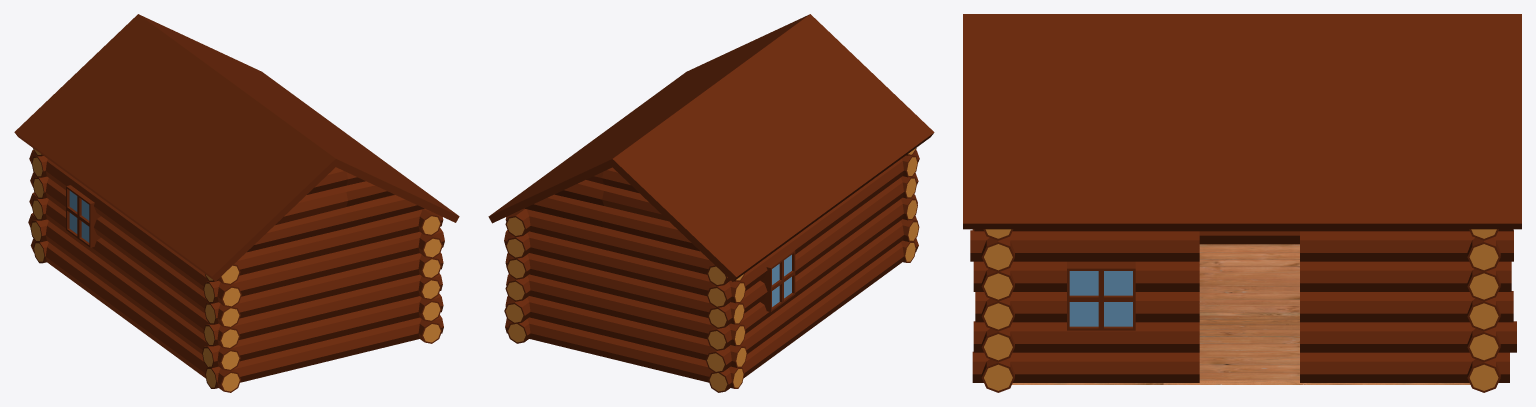
Rendered from cabin_1.fbx.
3 views of the same model, side by side, from view 1: azimuth 30°, elevation 25°; view 2: azimuth 150°, elevation 25°; view 3: azimuth 270°, elevation 25° (orthographic). The views are drawn at different scales.
Parts seen in each view (by area): view 1: roof, cabin walls, window 1; view 2: roof, cabin walls, window 1; view 3: roof, cabin walls, window 2.
Boxes of the visible parts, left/top/right/bottom form: roof: left=14, top=14, right=459, bottom=281; cabin walls: left=28, top=148, right=444, bottom=392; window 1: left=66, top=185, right=100, bottom=247; roof: left=488, top=14, right=934, bottom=281; cabin walls: left=504, top=148, right=919, bottom=392; window 1: left=760, top=249, right=795, bottom=311; roof: left=963, top=14, right=1521, bottom=229; cabin walls: left=970, top=229, right=1516, bottom=392; window 2: left=1067, top=261, right=1135, bottom=330.
Bounding box in the file's own units: 689 × 563 × 952.
